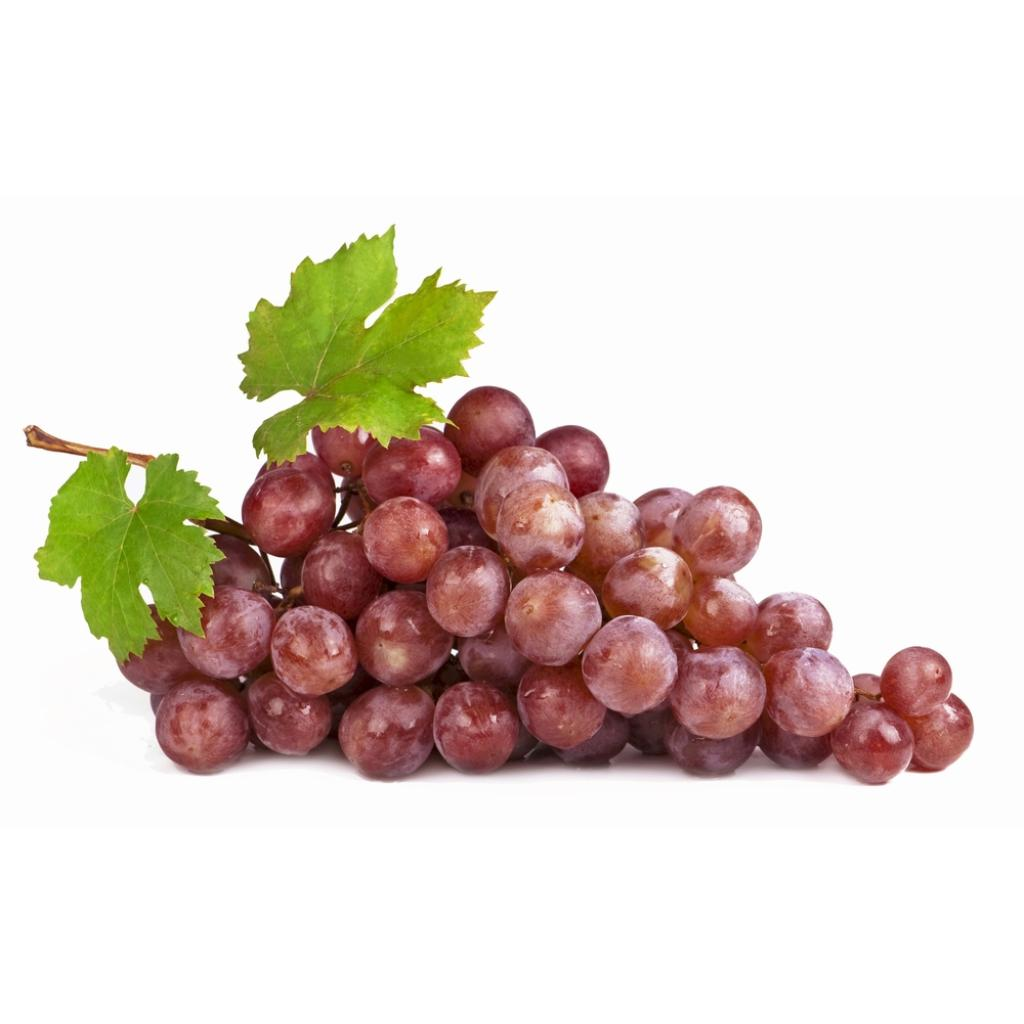grape: (126, 388, 971, 783)
